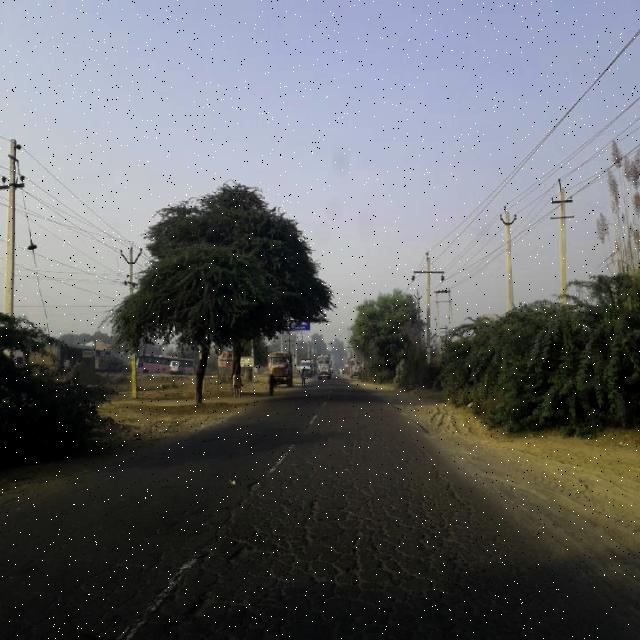D20: (77, 462, 491, 639)
D40: (172, 467, 288, 636)
D44: (121, 531, 204, 639)
